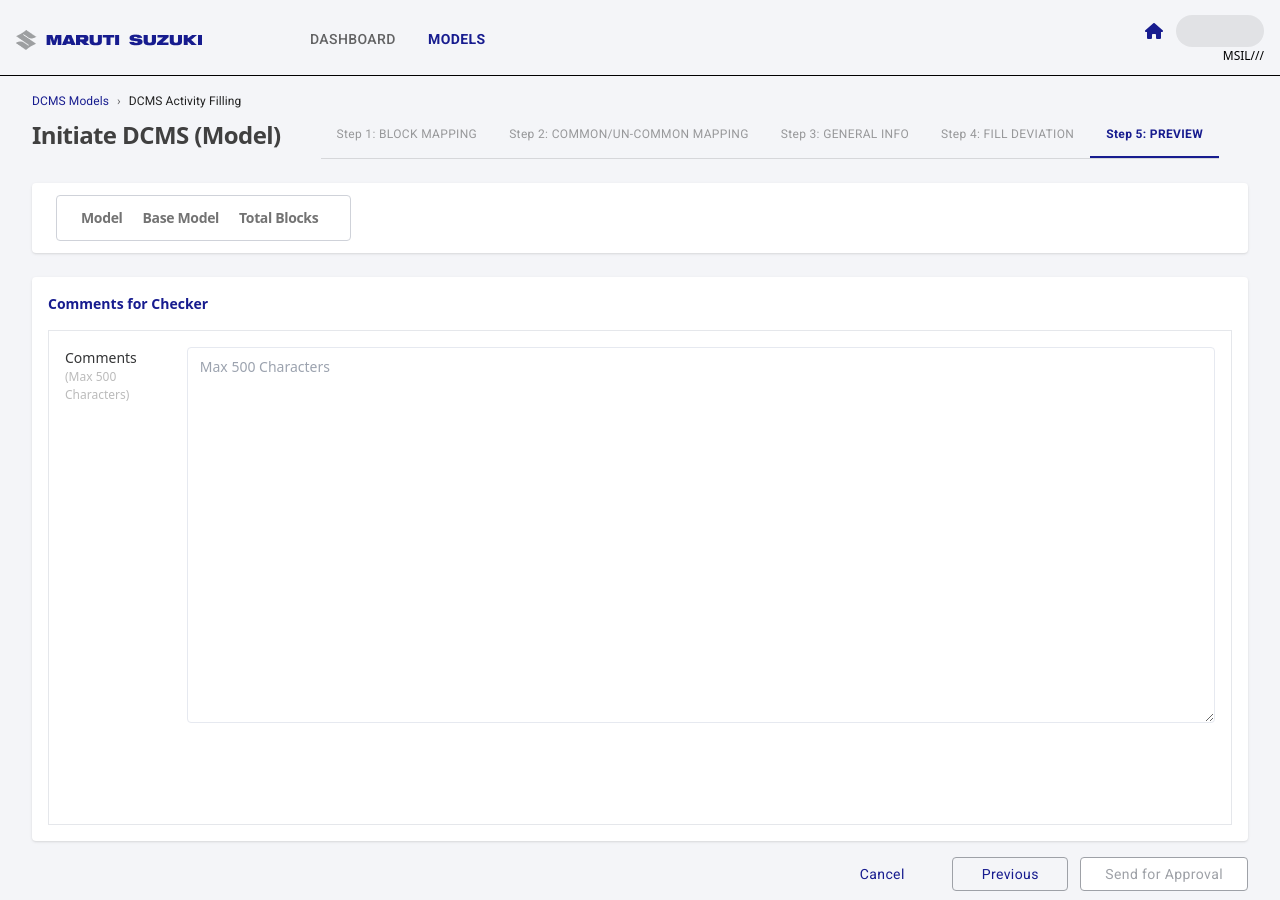
Test: FillerComment component › disables Send for Approval button when comments are not provided
Check: the button "Send for Approval" is disabled, box [1080, 857, 1248, 891]
Enter some comments
Type "Some comments" into the text box named "maximum height".
click(701, 535); type("Some comments")  # box [187, 347, 1215, 723]
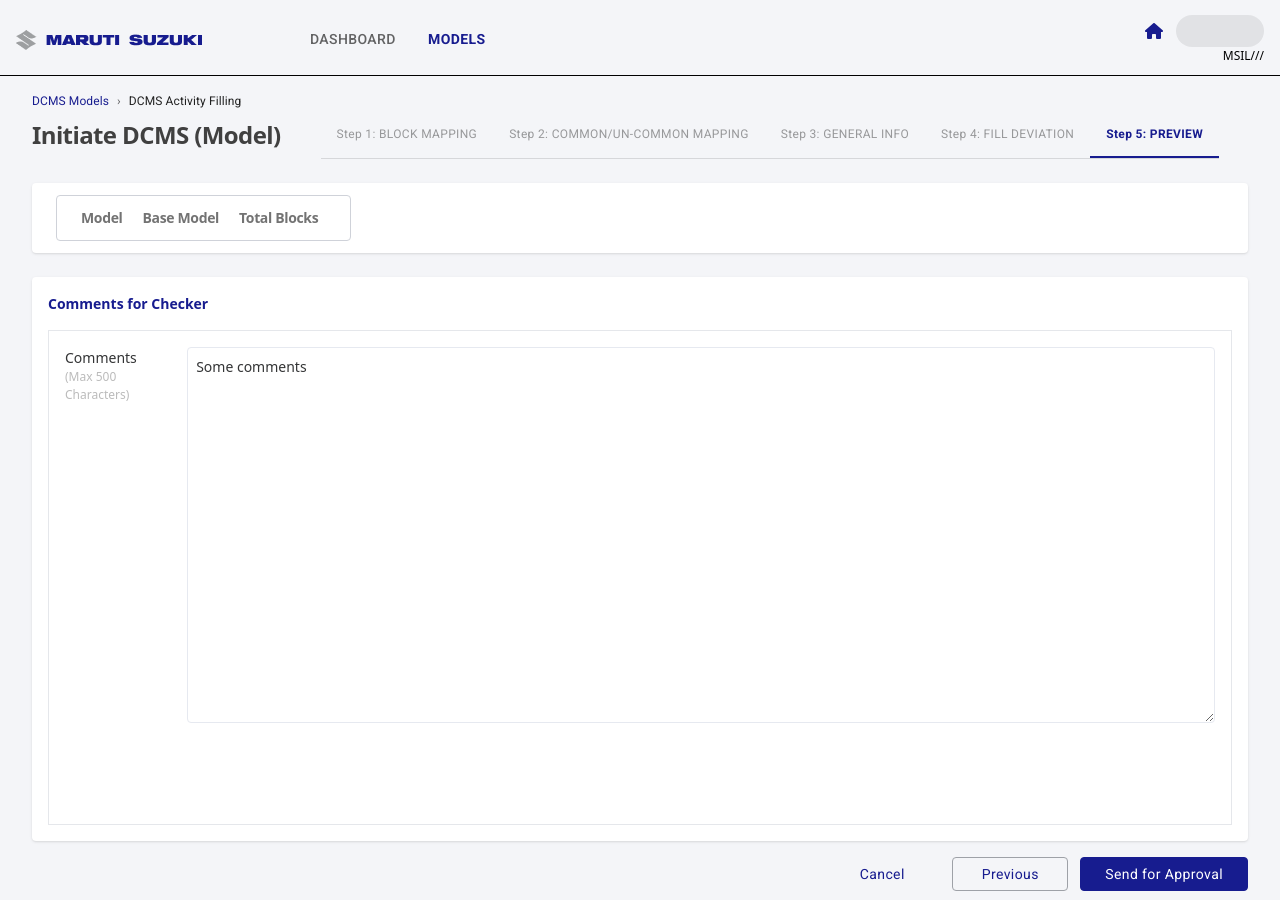
Check: the button "Send for Approval" is enabled, box [1080, 857, 1248, 891]
